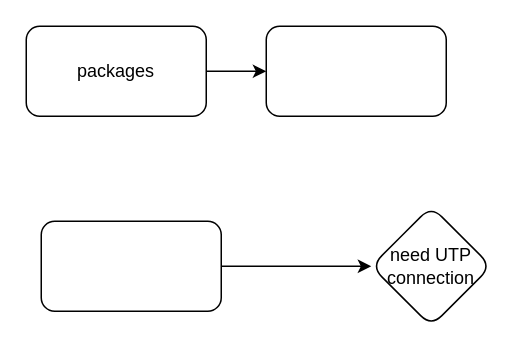
Some shapes in this 518 by 353 pixel diagram are drawn without their labels. Here are the shapes that lost their labels. From the top down, the centre of each, then its label:
the point at 355,70: studio-base
the point at 130,265: web
